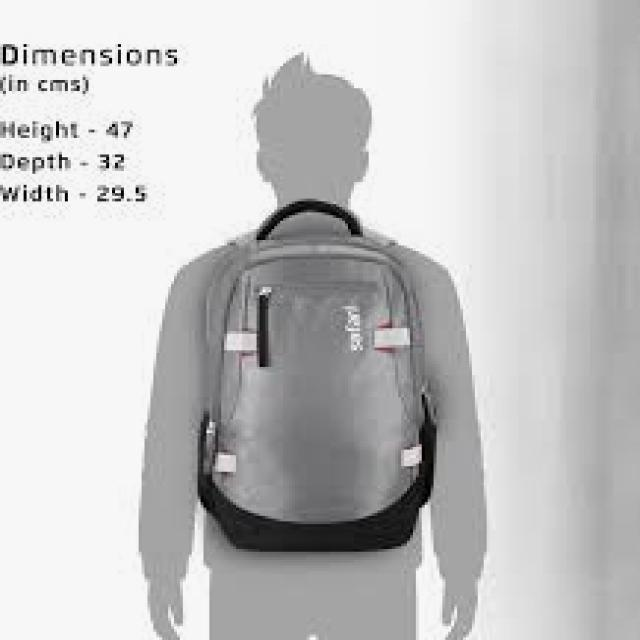backpack: (196, 200, 438, 553)
